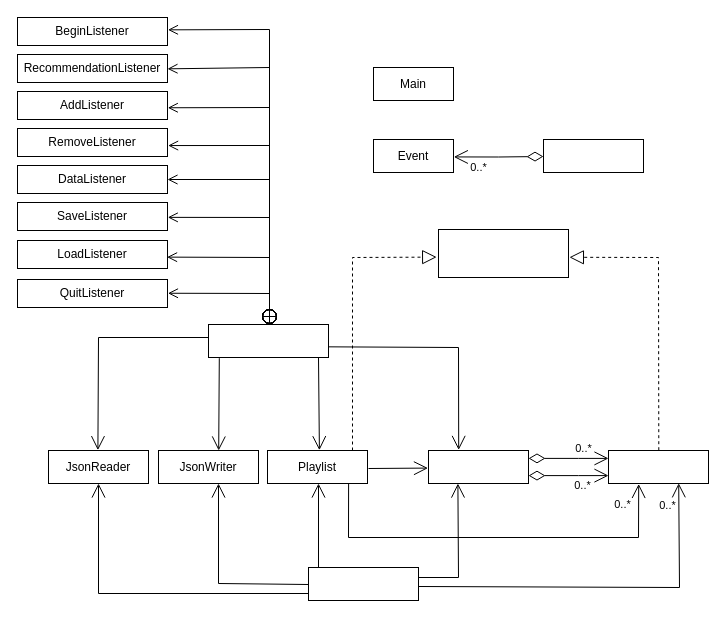
This 726x625 diagram has some shape labels left out. The shapes that lost their labels are listed below. From the top down, each one's box as (x1, y1, x2, y2) in pixels, then its label:
(542, 138, 644, 172): EventLog
(438, 228, 568, 278): «interface» Writable
(208, 324, 328, 358): MusicRecAppUI
(428, 450, 528, 484): SongBank
(608, 450, 708, 484): Song
(308, 566, 418, 600): MusicRecApp
